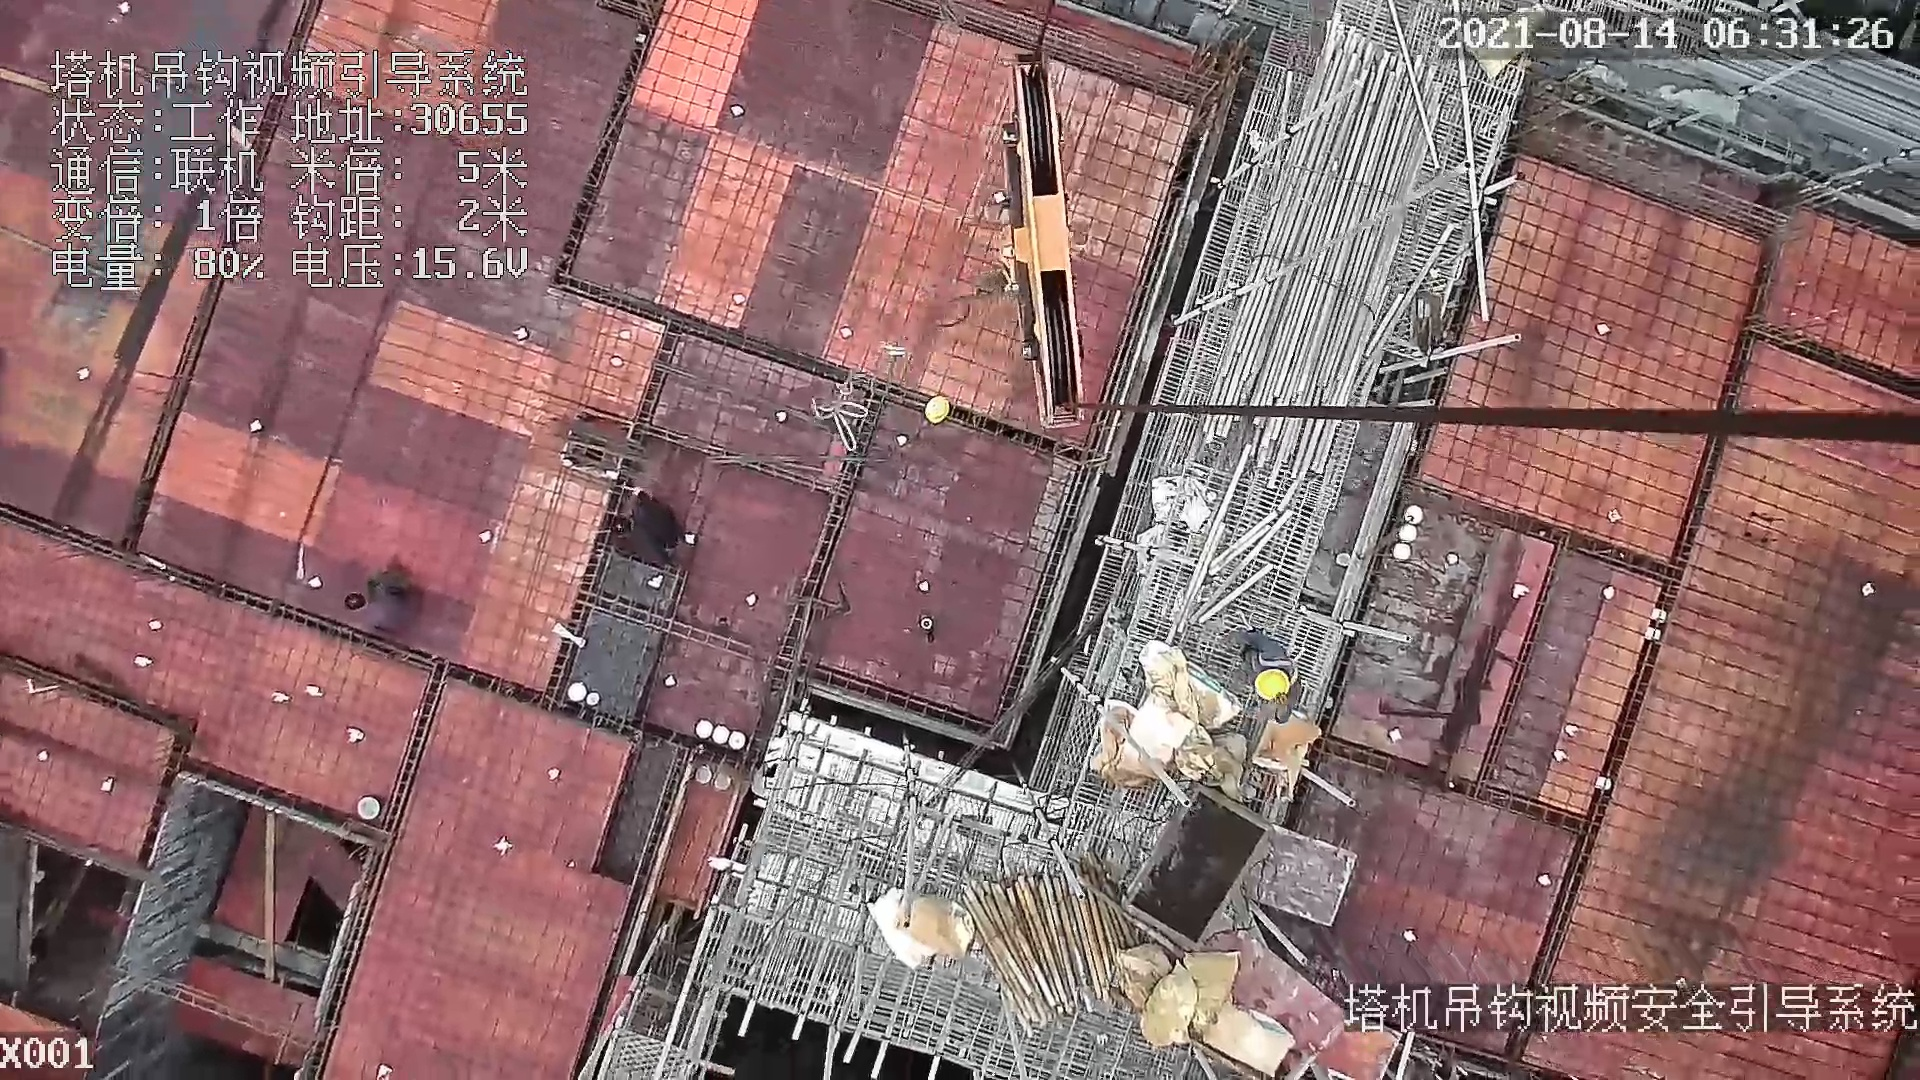helmet: (1254, 669, 1290, 703), (927, 395, 953, 428)
hook: (992, 58, 1088, 430)
hopper: (1126, 787, 1272, 941)
person: (1220, 614, 1313, 723), (335, 566, 423, 635), (609, 489, 690, 564)
scaffold: (1206, 42, 1431, 477), (949, 837, 1158, 1032)
